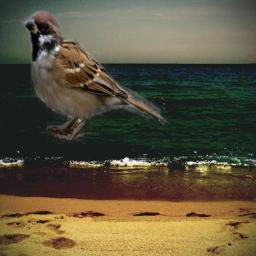Sparrow: (20, 7, 167, 144)
